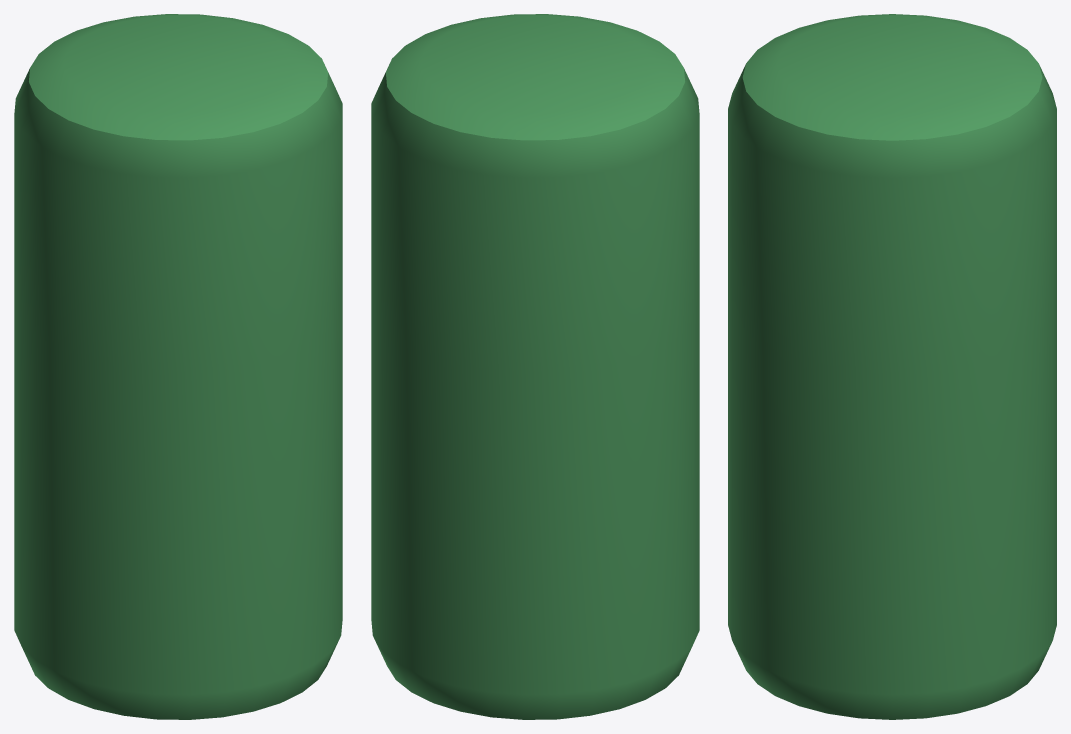
Rendered from SM_LiquidIncubateur_01.fbx.
3 renders of one model, left to right at view 1: azimuth 30°, elevation 25°; view 2: azimuth 150°, elevation 25°; view 3: azimuth 270°, elevation 25°, orthographic.
Parts seen in each view (by area): view 1: LiquidIncubateur_01; view 2: LiquidIncubateur_01; view 3: LiquidIncubateur_01.
Boxes of the visible parts, x1=… form: LiquidIncubateur_01: x1=14, y1=14, x2=342, y2=719; LiquidIncubateur_01: x1=371, y1=14, x2=699, y2=719; LiquidIncubateur_01: x1=728, y1=14, x2=1056, y2=719.
Bounding box in the file's own units: 114 × 232 × 114.
